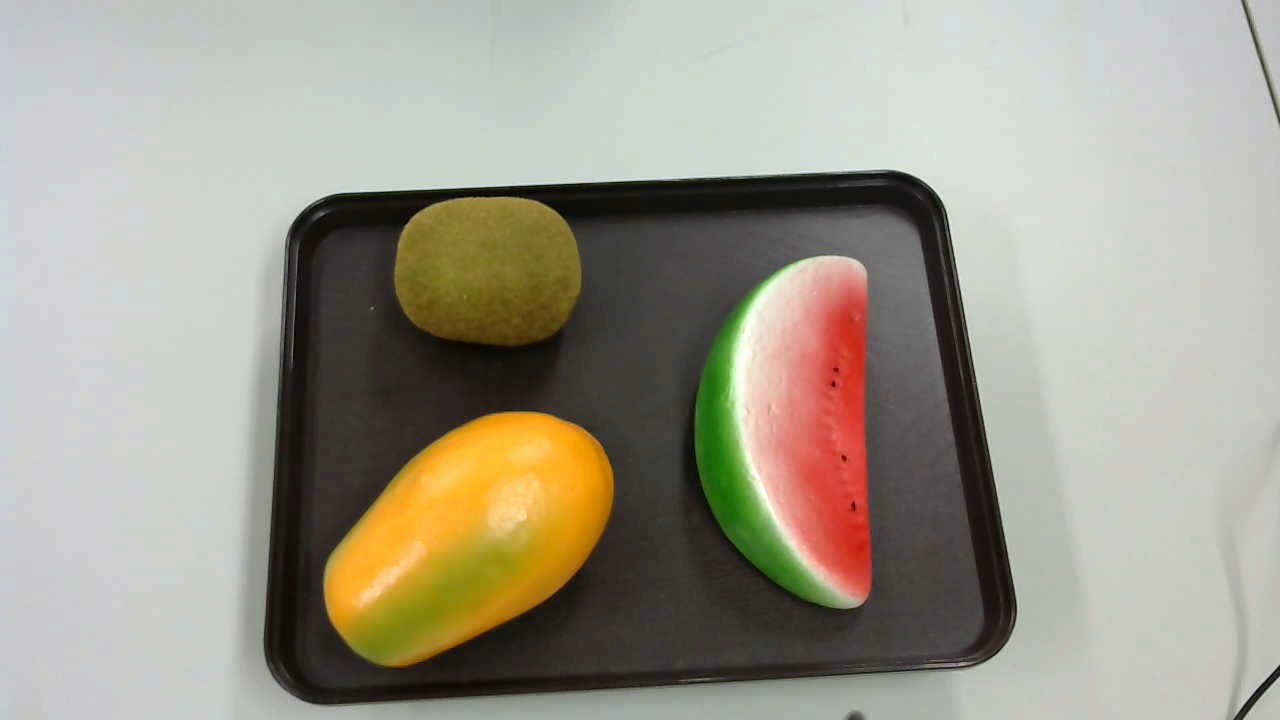kiwi fruit: (390, 192, 586, 348)
papya: (316, 410, 625, 677)
water melon: (693, 255, 877, 617)
